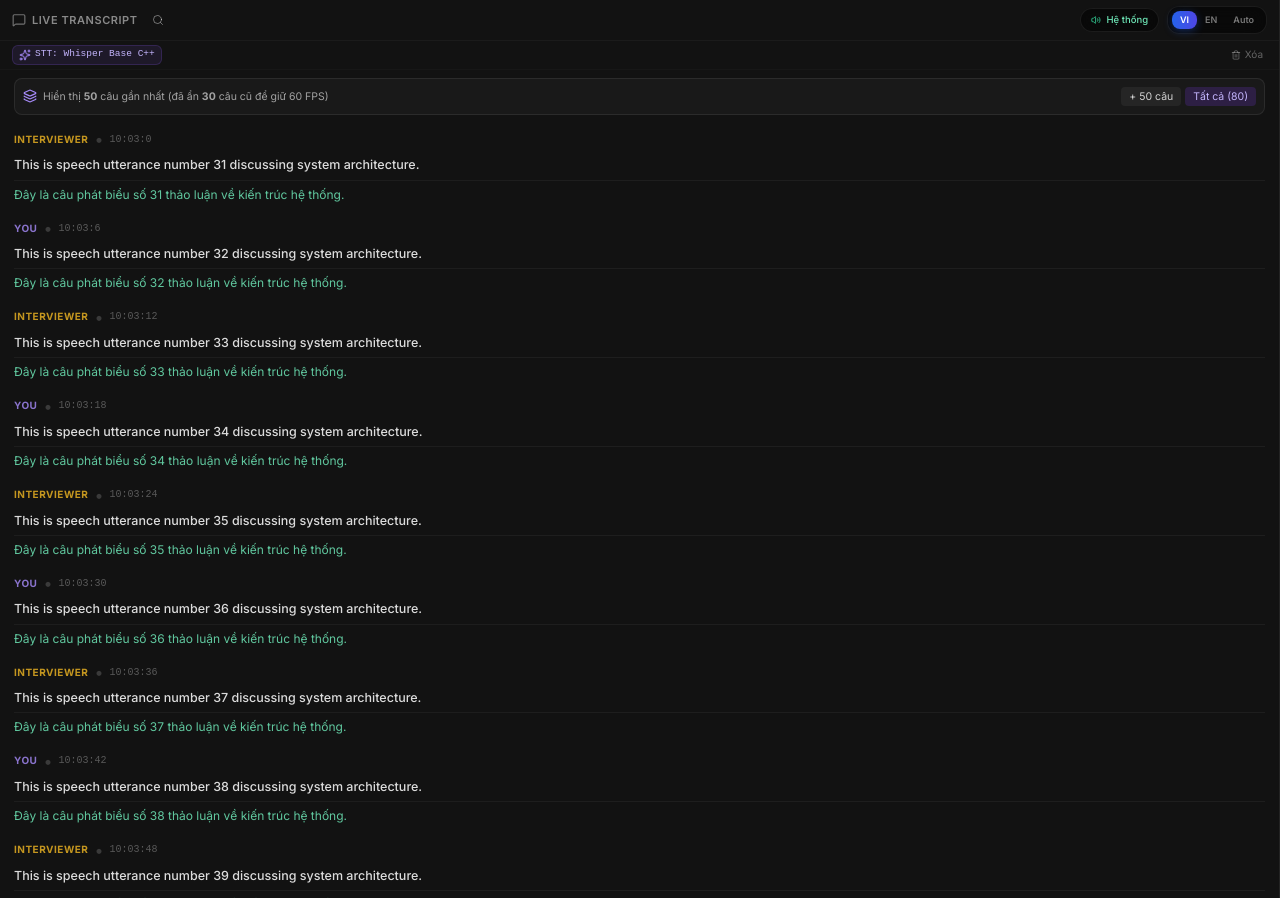
LiveTranscriptPane Component & Virtualization (Plan 4) › expands full transcript when clicking "Tất cả"
The image size is (1280, 898).
Click the button "Tất cả (80)". click: click(1221, 96)
box: x1=1185 y1=86 x2=1256 y2=106
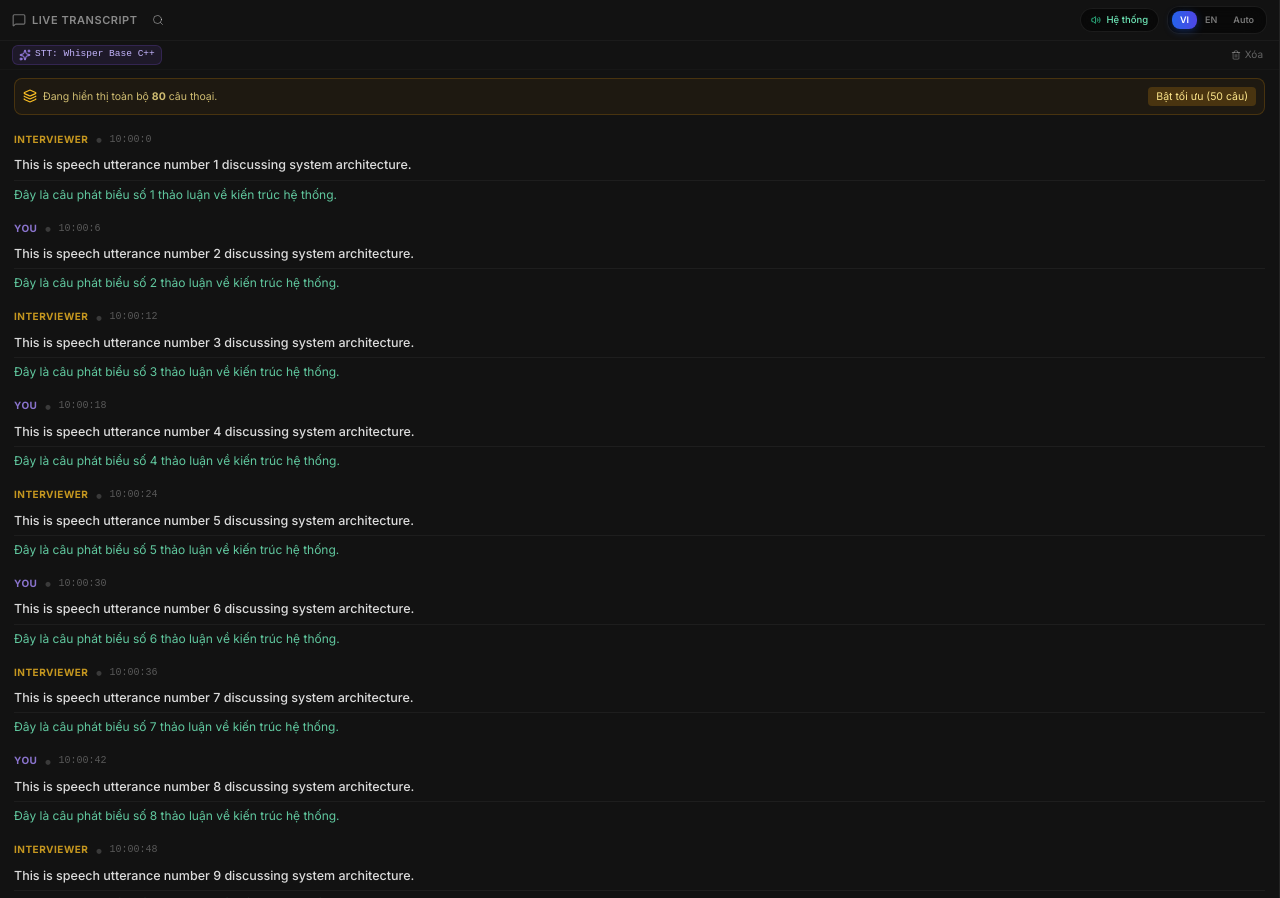
Now the button "Bật tối ưu (50 câu)" is shown
Now the text "This is speech utterance number 1 discussing system architecture." is shown, box x1=14 y1=157 x2=412 y2=172
Click the button "Bật tối ưu (50 câu)". click: click(1202, 96)
box: x1=1148 y1=86 x2=1256 y2=106
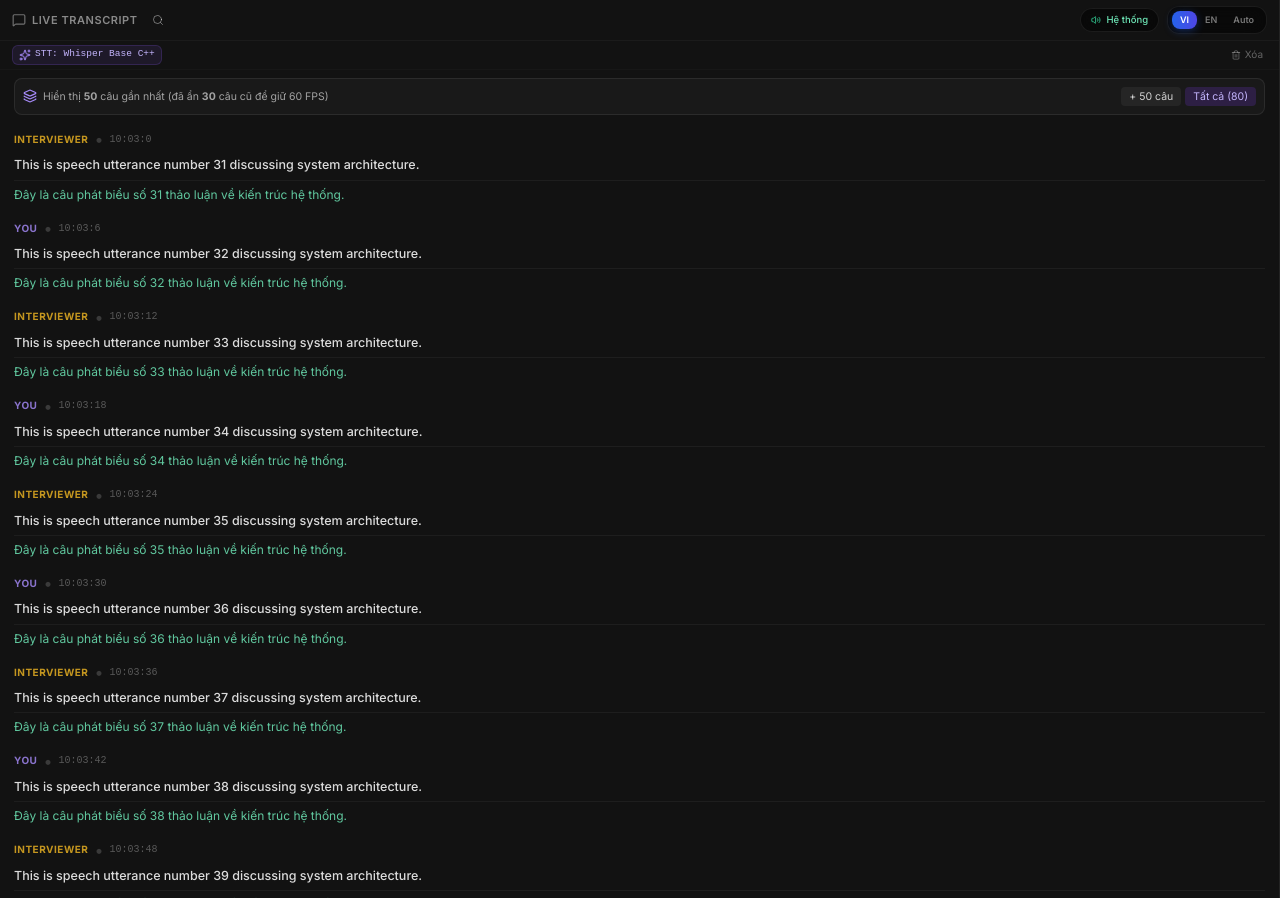
Now the text "This is speech utterance number 1 discussing system architecture." is gone
